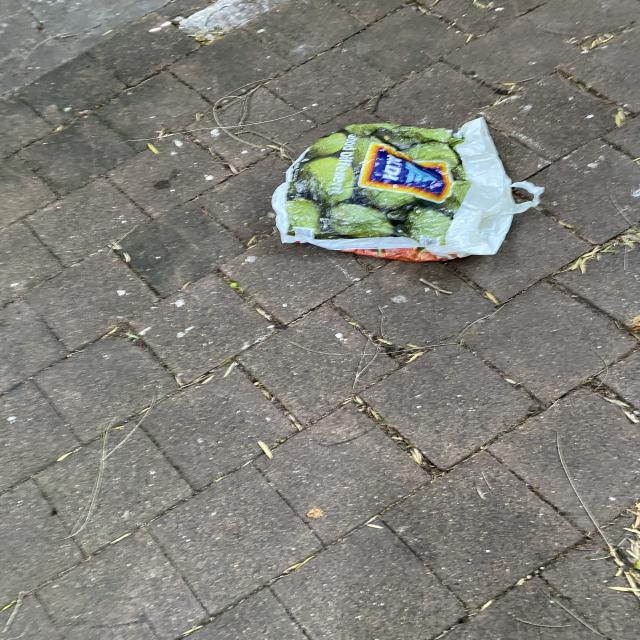bag: (269, 114, 550, 267)
